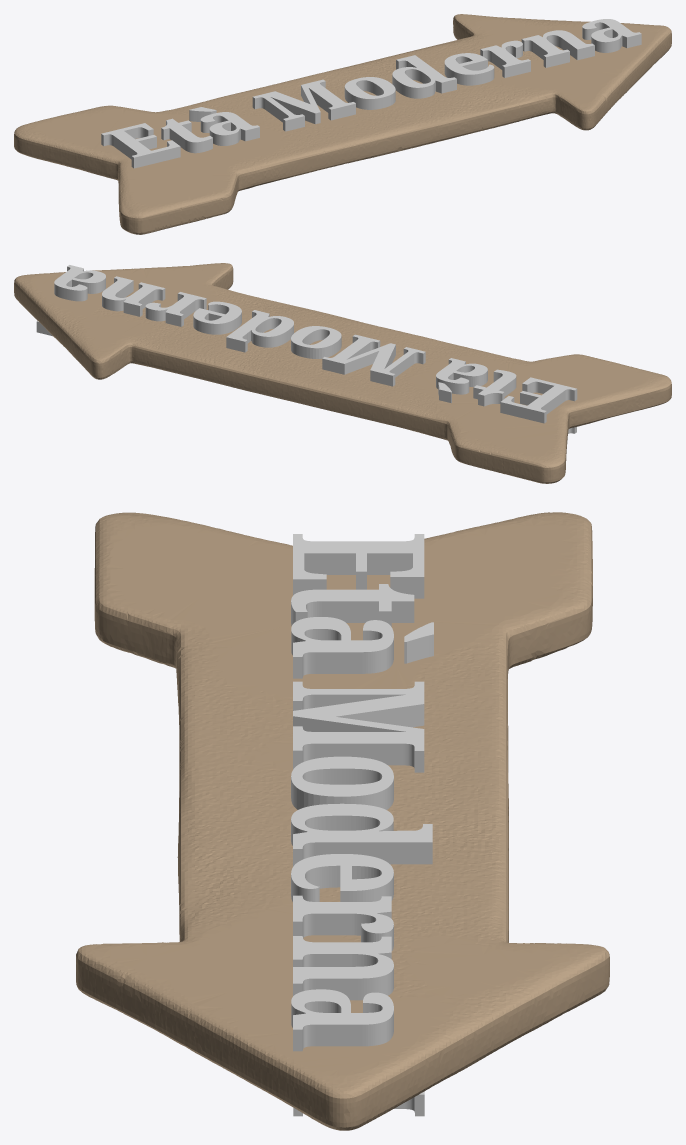
File: Catello Età Moderna.glb
3 views of the same model, one above another, from view 1: azimuth 30°, elevation 25°; view 2: azimuth 150°, elevation 25°; view 3: azimuth 270°, elevation 25° (orthographic). The views are drawn at different scales.
Parts seen in each view (by area): view 1: Mesh_Mesh_head_geo.001_lambert2SG.001; view 2: Mesh_Mesh_head_geo.001_lambert2SG.001; view 3: Mesh_Mesh_head_geo.001_lambert2SG.001.
Boxes of the visible parts, x1,y1,x2,y2 form: Mesh_Mesh_head_geo.001_lambert2SG.001: (14, 14, 671, 234); Mesh_Mesh_head_geo.001_lambert2SG.001: (14, 263, 671, 483); Mesh_Mesh_head_geo.001_lambert2SG.001: (76, 512, 609, 1130).
Bounding box in the file's own units: 0.058 × 0.004 × 0.0223.
